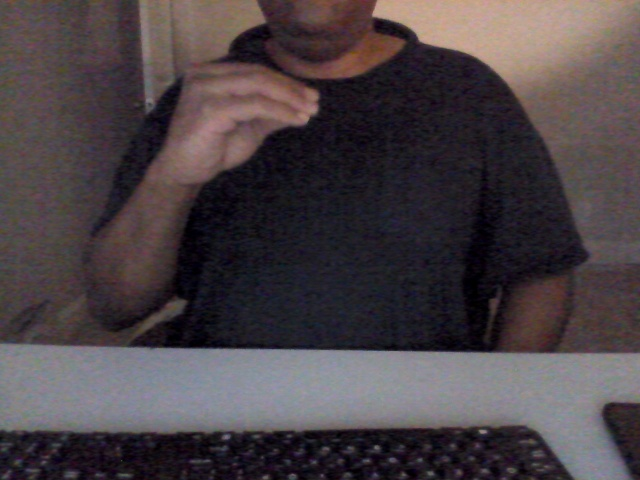eat: (146, 58, 332, 192)
